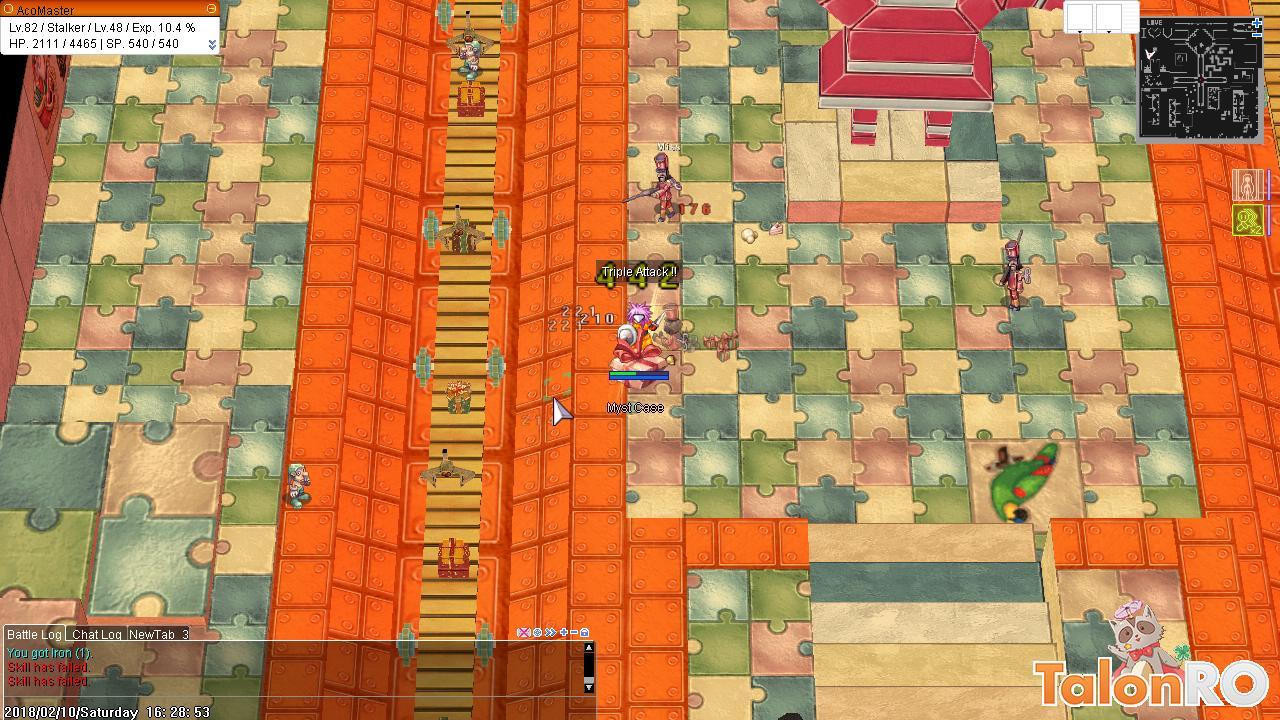loot: (736, 222, 759, 246), (765, 215, 788, 238), (665, 348, 682, 368)
mob: (617, 148, 688, 230), (989, 226, 1038, 321)
myst_case: (608, 335, 667, 393)
